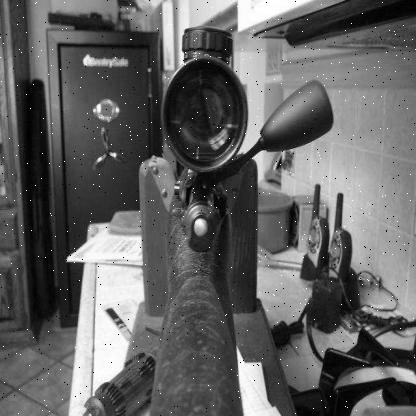rifle: (128, 27, 338, 415)
